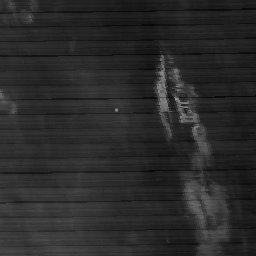Target: (113, 107, 120, 114)
